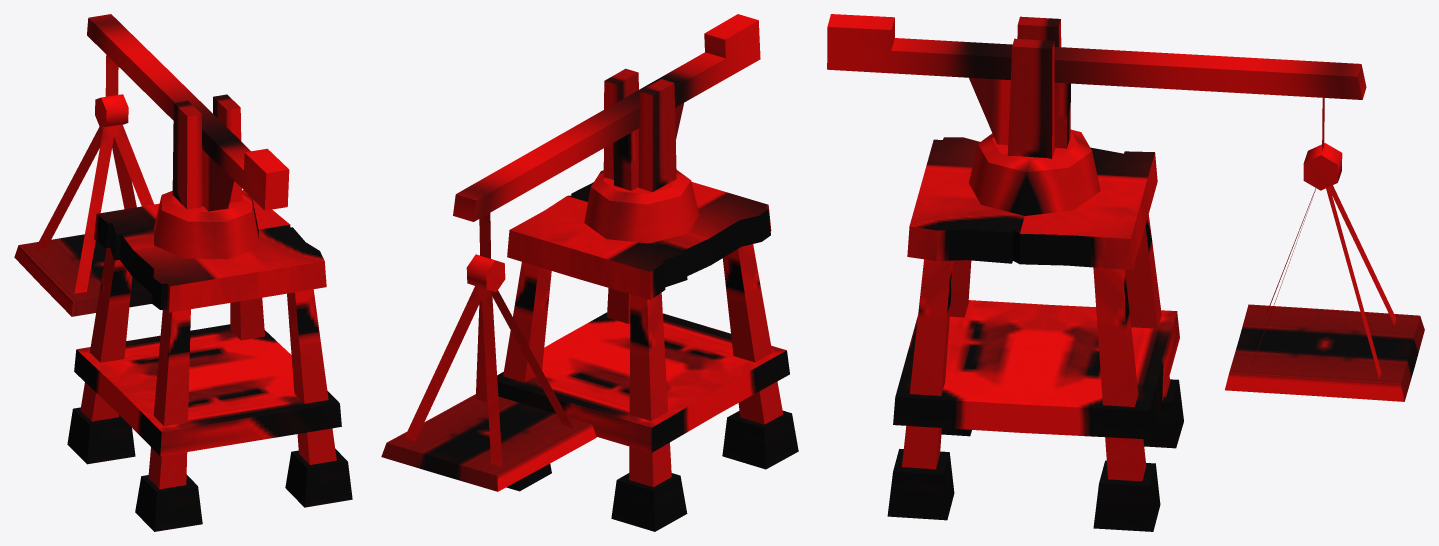
The model's file is field_wood_001l.fbx.
The picture shows the model from 3 angles, left to right: view 1: azimuth 30°, elevation 25°; view 2: azimuth 150°, elevation 25°; view 3: azimuth 270°, elevation 25°; orthographic projection. The views are drawn at different scales.
Parts seen in each view (by area): view 1: field_wood_001l_a, field_wood_001l_b; view 2: field_wood_001l_a, field_wood_001l_b; view 3: field_wood_001l_a, field_wood_001l_b.
Part boxes in pixels (bbox=[...]): field_wood_001l_a: bbox=[67, 190, 352, 531]; field_wood_001l_b: bbox=[14, 14, 289, 316]; field_wood_001l_a: bbox=[497, 182, 798, 531]; field_wood_001l_b: bbox=[381, 14, 760, 491]; field_wood_001l_a: bbox=[887, 137, 1183, 531]; field_wood_001l_b: bbox=[827, 14, 1424, 401].
Bounding box in the file's own units: 61.67 × 104 × 128.
